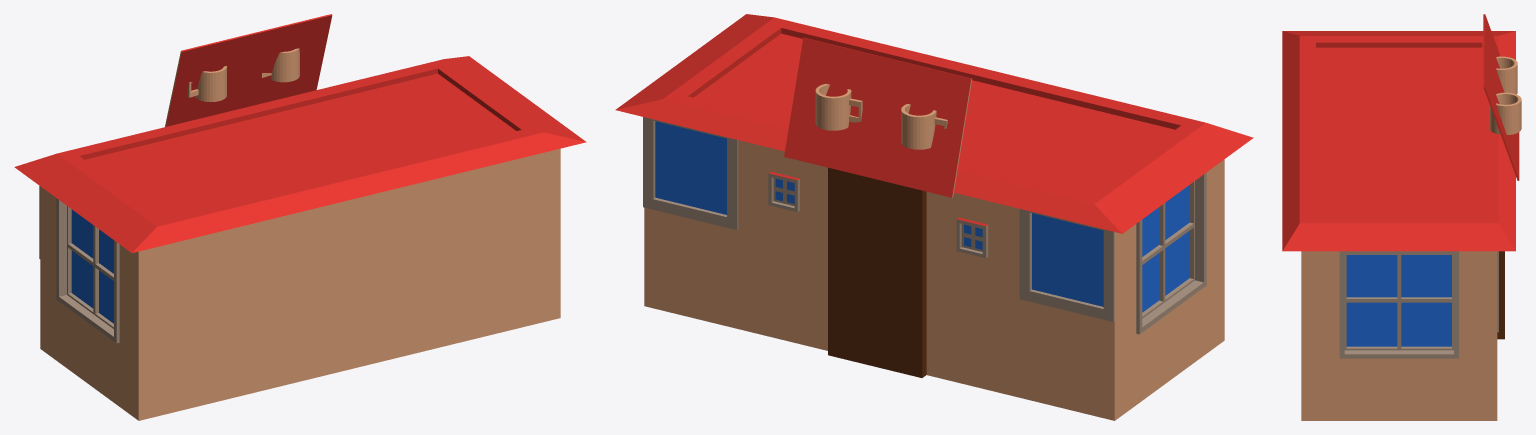
File: Station Tan.fbx
The picture shows the model from 3 angles, left to right: view 1: azimuth 30°, elevation 25°; view 2: azimuth 150°, elevation 25°; view 3: azimuth 270°, elevation 25°; orthographic projection. The views are drawn at different scales.
Parts seen in each view (by area): view 1: Cube, Cube.001; view 2: Cube, Cube.001; view 3: Cube, Cube.001.
Boxes of the visible parts, x1=… form: Cube: x1=14, y1=56, x2=586, y2=420; Cube.001: x1=165, y1=14, x2=332, y2=126; Cube: x1=615, y1=14, x2=1253, y2=420; Cube.001: x1=784, y1=37, x2=971, y2=197; Cube: x1=1282, y1=31, x2=1515, y2=420; Cube.001: x1=1483, y1=14, x2=1521, y2=180.
Size of the model in its own units: 3261 by 1847 by 1496.
